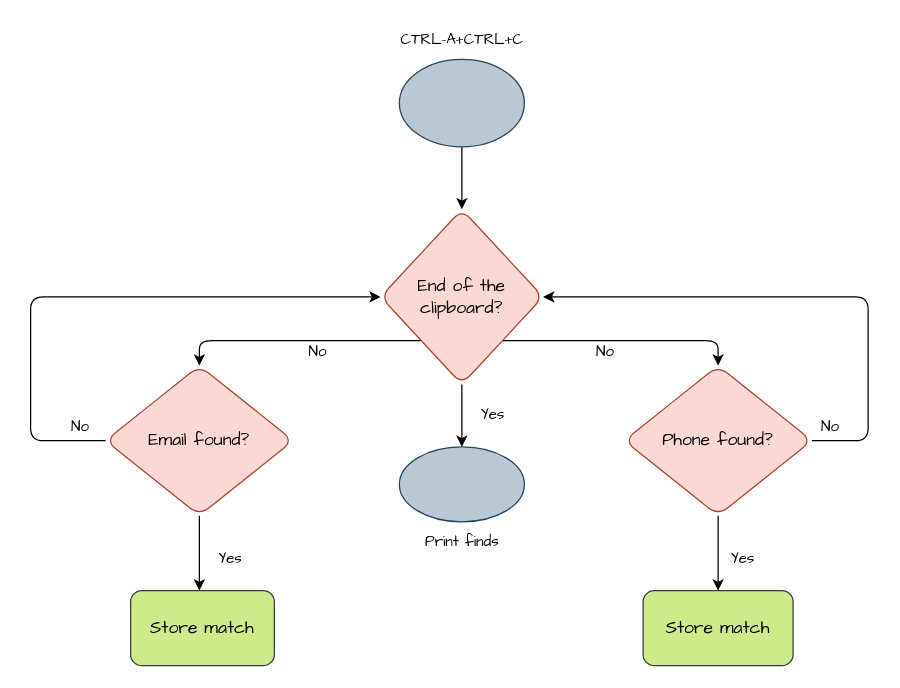
This 900x688 diagram has some shape labels left out. The shapes that lost their labels are listed below. From the top down, each one's centre as x and y in pixels, then its label:
the point at 461,102: Start
the point at 461,484: End
